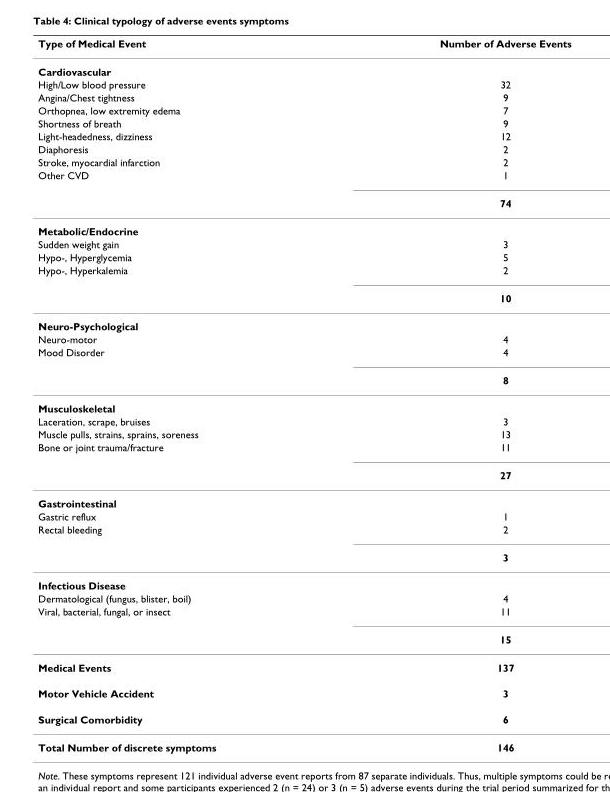table: (37, 36, 570, 752)
table column: (37, 36, 327, 752), (327, 36, 570, 752)
table column header: (37, 36, 570, 56)
table projected row header: (37, 56, 570, 77), (37, 216, 570, 237), (37, 311, 570, 332), (37, 393, 570, 414), (37, 488, 570, 509), (37, 570, 570, 591)
table row: (37, 188, 570, 216), (37, 283, 570, 311), (37, 365, 570, 393), (37, 460, 570, 488), (37, 542, 570, 570), (37, 624, 570, 652), (37, 652, 570, 679), (37, 705, 570, 732), (37, 679, 570, 705), (37, 56, 570, 77), (37, 216, 570, 237), (37, 311, 570, 332), (37, 393, 570, 414), (37, 488, 570, 509), (37, 570, 570, 591), (37, 36, 570, 56), (37, 168, 570, 188), (37, 263, 570, 283), (37, 345, 570, 365), (37, 440, 570, 460), (37, 522, 570, 542), (37, 604, 570, 624), (37, 732, 570, 752), (37, 77, 570, 90), (37, 90, 570, 103), (37, 103, 570, 116), (37, 116, 570, 129), (37, 129, 570, 142), (37, 142, 570, 155), (37, 155, 570, 168), (37, 237, 570, 250), (37, 250, 570, 263), (37, 332, 570, 345), (37, 414, 570, 427), (37, 427, 570, 440), (37, 509, 570, 522), (37, 591, 570, 604)
table spanning cell: (37, 168, 327, 216), (37, 263, 327, 311), (37, 345, 327, 393), (37, 440, 327, 488), (37, 522, 327, 570), (37, 604, 327, 652)
